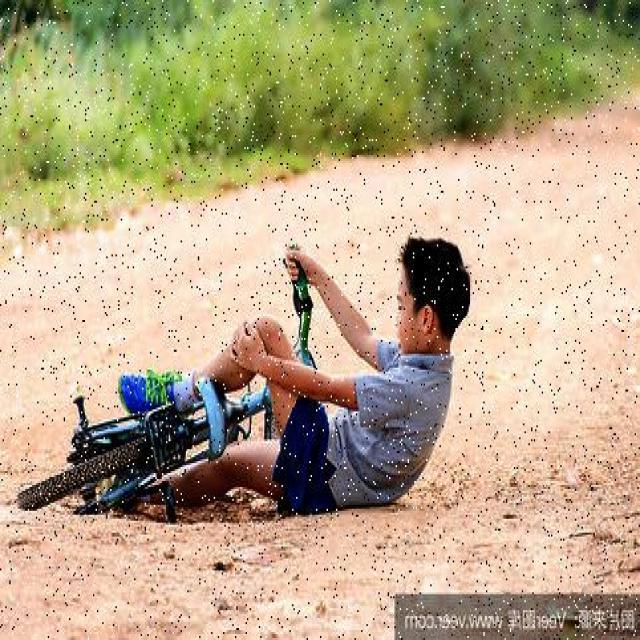fall: (176, 236, 472, 515)
